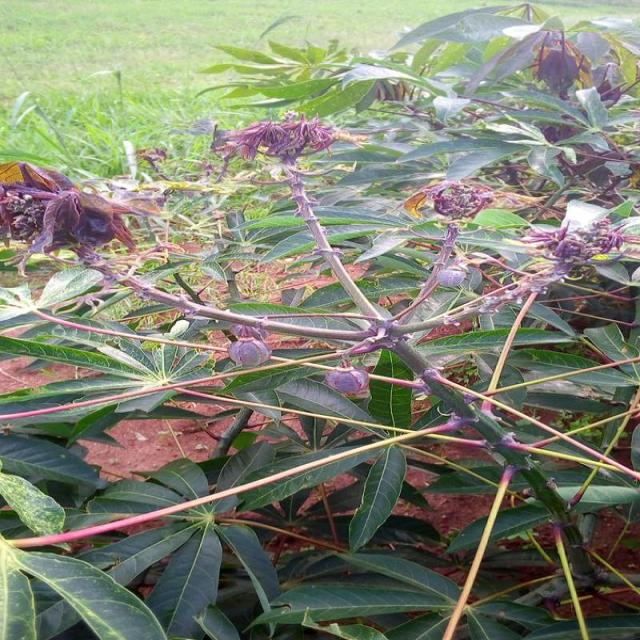cassava leaf: (1, 4, 638, 638), (347, 441, 407, 554)
